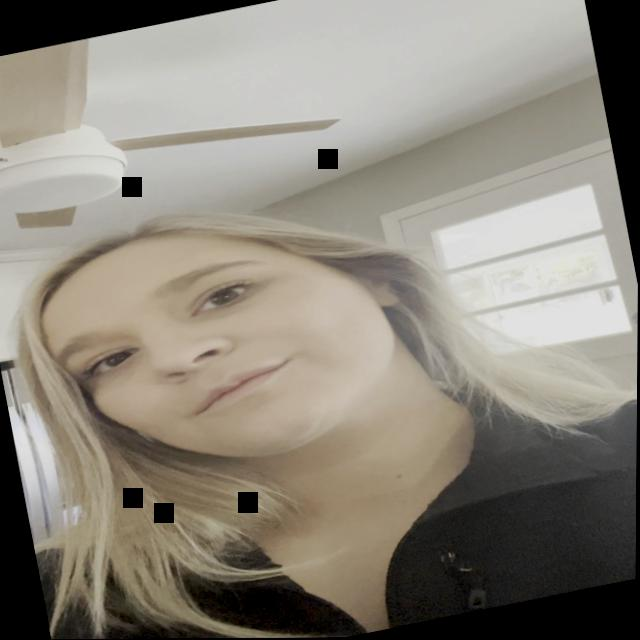NO-Mask: (23, 192, 415, 496)
